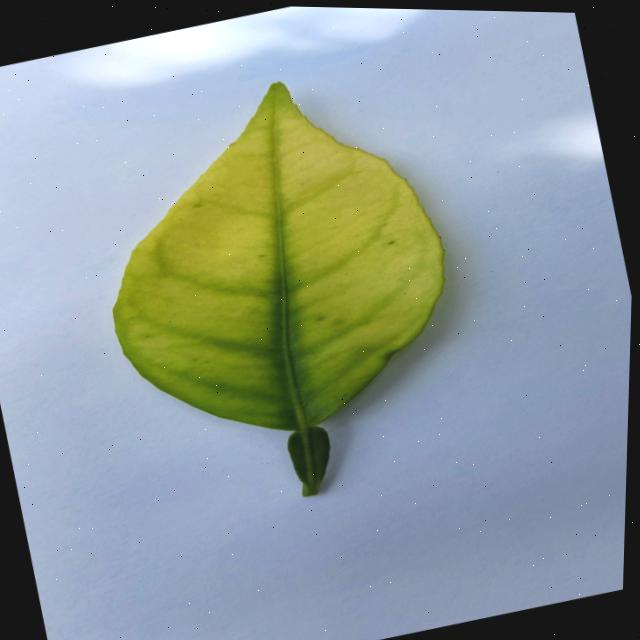greening: (112, 82, 442, 495)
